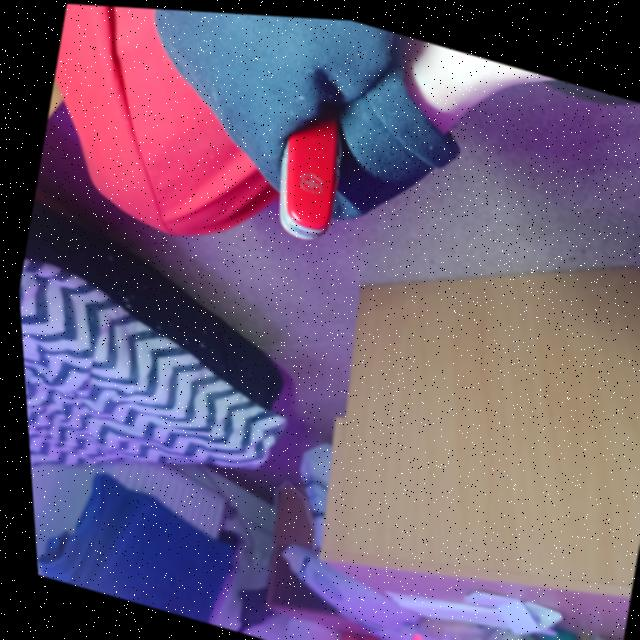knife victorinox: (276, 113, 338, 234)
